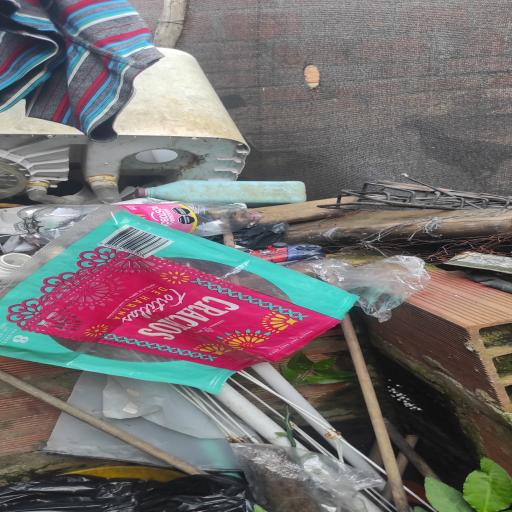ControlPlay4: (249, 242, 324, 263)
